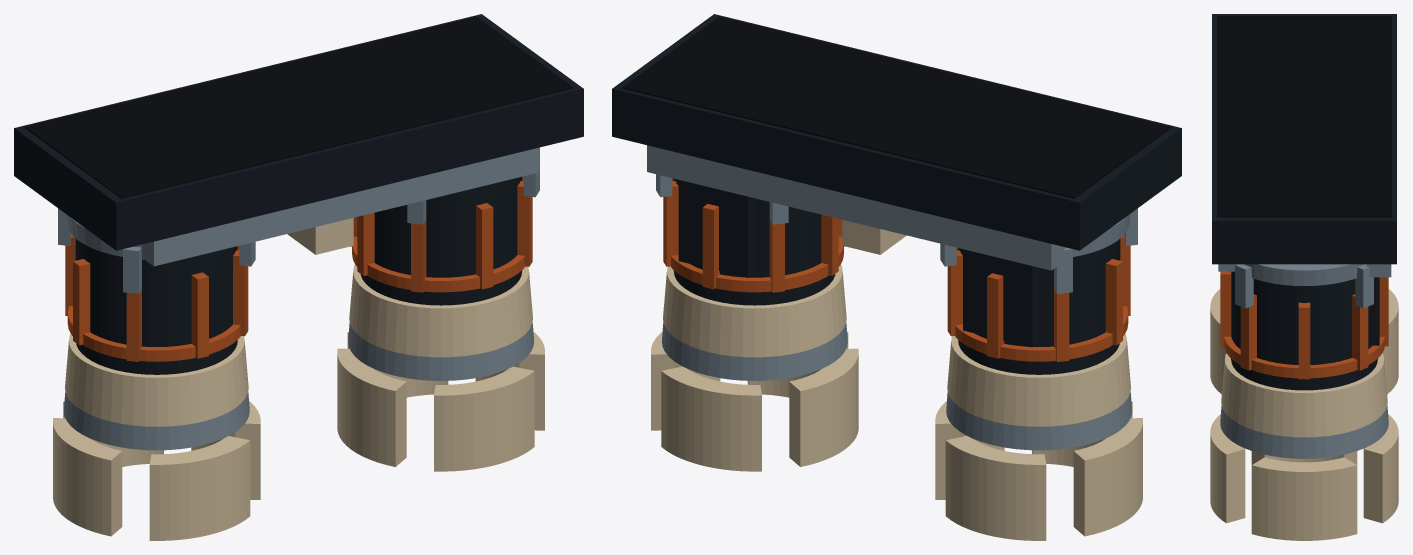
3 renders of one model, left to right at view 1: azimuth 30°, elevation 25°; view 2: azimuth 150°, elevation 25°; view 3: azimuth 270°, elevation 25°, orthographic. The views are drawn at different scales.
Parts seen in each view (by area): view 1: mount_gasket, mount_cassette, C1_main_shell, C2_main_shell, upper_bridge, C2_ceramic_jacket, C1_ceramic_jacket, C1_variable_flap_1, C2_variable_flap_1, C2_variable_flap_2, C1_variable_flap_2, C1_nozzle_lip (+18 smaller); view 2: mount_gasket, mount_cassette, mount_spine, C2_ceramic_jacket, C1_ceramic_jacket, C1_variable_flap_3, C2_variable_flap_3, C1_main_shell, C2_variable_flap_2, C1_variable_flap_2, C2_main_shell, C2_structural_rail (+20 smaller); view 3: mount_gasket, mount_cassette, C2_main_shell, C2_variable_flap_0, C2_ceramic_jacket, C2_nozzle_lip, C2_variable_flap_1, C2_variable_flap_3, C2_front_flange, C2_heat_band, C1_variable_flap_1, C1_variable_flap_3 (+10 smaller).
Part boxes in pixels (<box>): mount_gasket: <box>24,16,573,198</box>; mount_cassette: <box>14,14,583,250</box>; C1_main_shell: <box>75,239,237,374</box>; C2_main_shell: <box>360,176,522,305</box>; upper_bridge: <box>142,147,539,266</box>; C2_ceramic_jacket: <box>349,264,532,357</box>; C1_ceramic_jacket: <box>65,334,248,426</box>; C1_variable_flap_1: <box>149,436,250,540</box>; C2_variable_flap_1: <box>434,366,534,471</box>; C2_variable_flap_2: <box>337,348,406,466</box>; C1_variable_flap_2: <box>53,418,122,536</box>; C1_nozzle_lip: <box>64,392,249,450</box>; mount_gasket: <box>622,16,1171,198</box>; mount_cassette: <box>612,14,1181,250</box>; mount_spine: <box>647,145,1064,270</box>; C2_ceramic_jacket: <box>663,264,846,357</box>; C1_ceramic_jacket: <box>947,334,1130,426</box>; C1_variable_flap_3: <box>945,436,1046,540</box>; C2_variable_flap_3: <box>661,366,761,471</box>; C1_main_shell: <box>958,239,1120,374</box>; C2_variable_flap_2: <box>789,348,858,466</box>; C1_variable_flap_2: <box>1073,418,1142,536</box>; C2_main_shell: <box>673,178,835,305</box>; C2_structural_rail: <box>678,180,754,277</box>; mount_gasket: <box>1217,16,1391,217</box>; mount_cassette: <box>1212,14,1396,264</box>; C2_main_shell: <box>1231,271,1377,390</box>; C2_variable_flap_0: <box>1251,457,1357,540</box>; C2_ceramic_jacket: <box>1221,353,1387,437</box>; C2_nozzle_lip: <box>1220,406,1388,458</box>; C2_variable_flap_1: <box>1210,414,1245,523</box>; C2_variable_flap_3: <box>1363,414,1398,523</box>; C2_front_flange: <box>1244,264,1364,285</box>; C2_heat_band: <box>1224,336,1384,378</box>; C1_variable_flap_1: <box>1210,289,1226,394</box>; C1_variable_flap_3: <box>1382,289,1398,394</box>.
Size of the model in its own units: 1.48 by 1.08 by 0.57.
